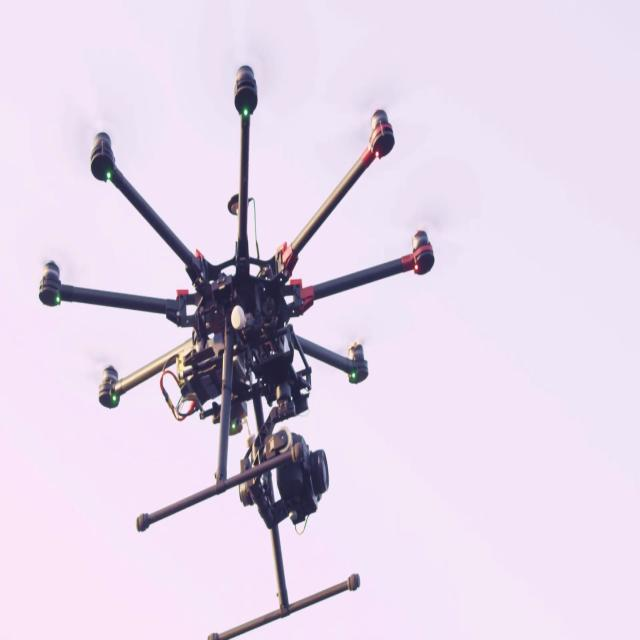drone: (36, 86, 425, 635)
